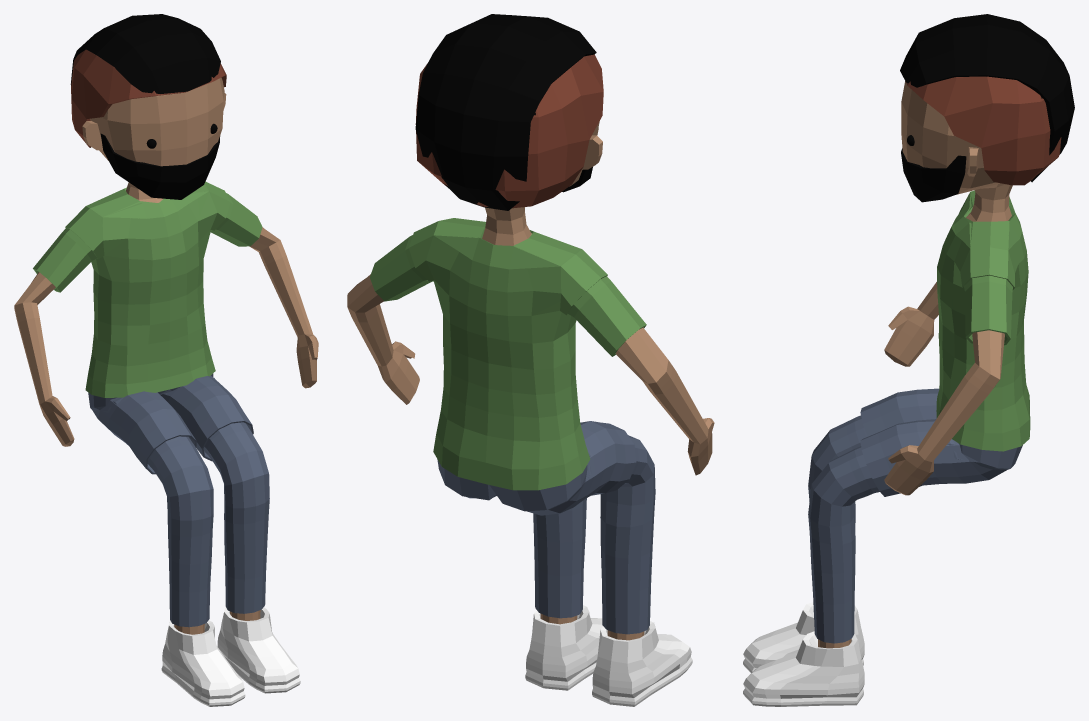
Rendered from npc_masculino2.fbx.
The picture shows the model from 3 angles, left to right: view 1: azimuth 30°, elevation 25°; view 2: azimuth 150°, elevation 25°; view 3: azimuth 270°, elevation 25°; orthographic projection. The views are drawn at different scales.
Parts seen in each view (by area): view 1: pantalon_largo.001, musculosa.001, cuerpo.001, remera.001, zapatilla.001, pelo01.001, pantalon_corto.001, pelo02.001, barba.001; view 2: musculosa.001, pelo01.001, pantalon_largo.001, remera.001, cuerpo.001, zapatilla.001, pelo02.001, pantalon_corto.001; view 3: cuerpo.001, pantalon_largo.001, musculosa.001, pelo01.001, pelo02.001, zapatilla.001, remera.001, pantalon_corto.001, barba.001.
Part boxes in pixels (x1,y1,x2,y2): pantalon_largo.001: (88, 373, 269, 627); musculosa.001: (65, 181, 230, 397); cuerpo.001: (14, 77, 318, 634); remera.001: (33, 184, 262, 397); zapatilla.001: (161, 607, 300, 706); pelo01.001: (70, 14, 220, 93); pantalon_corto.001: (93, 375, 253, 474); pelo02.001: (71, 49, 226, 147); barba.001: (100, 133, 220, 199); musculosa.001: (409, 218, 607, 490); pelo01.001: (415, 14, 596, 210); pantalon_largo.001: (437, 435, 655, 634); remera.001: (370, 218, 646, 465); cuerpo.001: (347, 121, 714, 640); zapatilla.001: (525, 605, 692, 706); pelo02.001: (415, 54, 603, 208); pantalon_corto.001: (467, 421, 636, 515); cuerpo.001: (818, 81, 1012, 648); pantalon_largo.001: (808, 415, 1022, 643); musculosa.001: (936, 190, 1030, 451); pelo01.001: (900, 14, 1074, 182); pelo02.001: (906, 76, 1061, 185); zapatilla.001: (743, 602, 864, 706); remera.001: (937, 191, 1029, 449); pantalon_corto.001: (860, 388, 1006, 496); barba.001: (901, 148, 966, 202).
Bounding box in the file's own units: 72.68 × 152 × 69.69.
